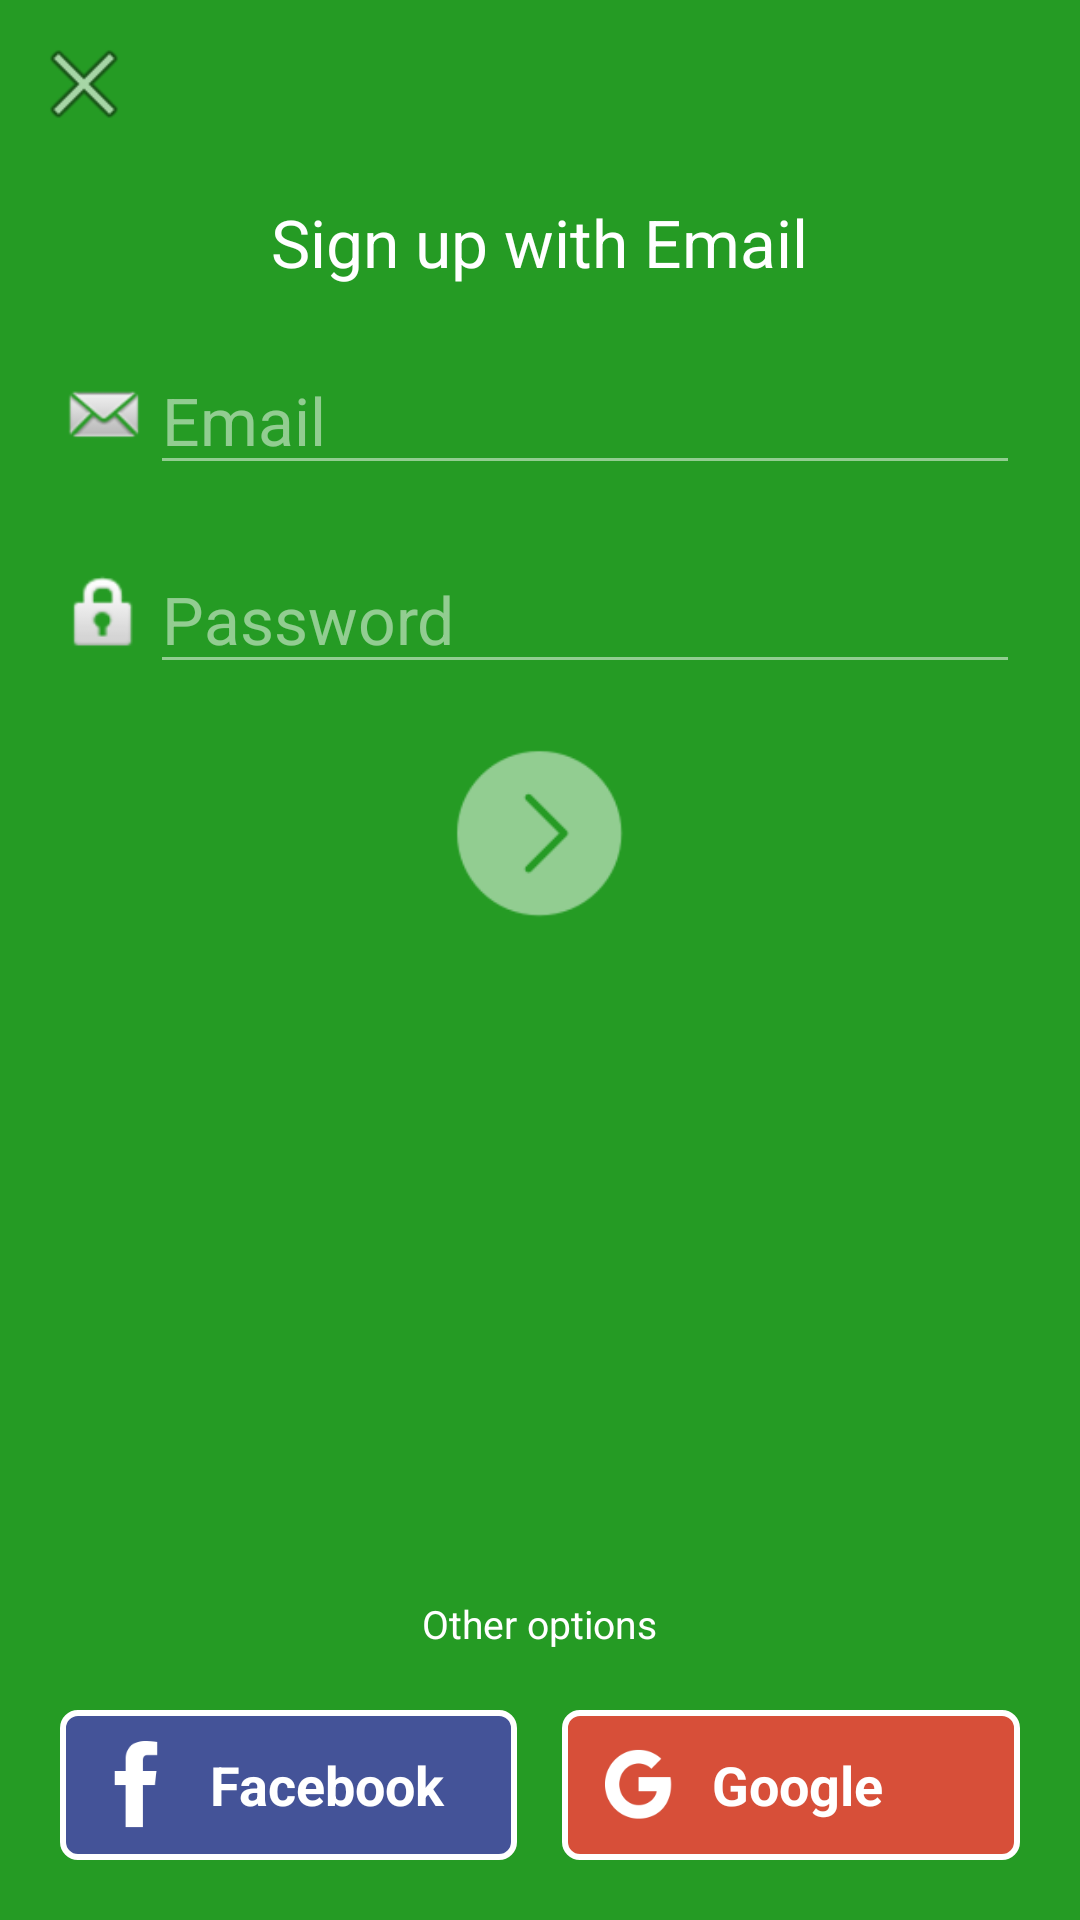

Icons on this 1080w x 1920h Android screen, each with its box as (x1, y1, x2, y2):
close clear cancel: (51, 51, 117, 117)
lock idle: (73, 577, 132, 646)
next page: (457, 751, 622, 916)
